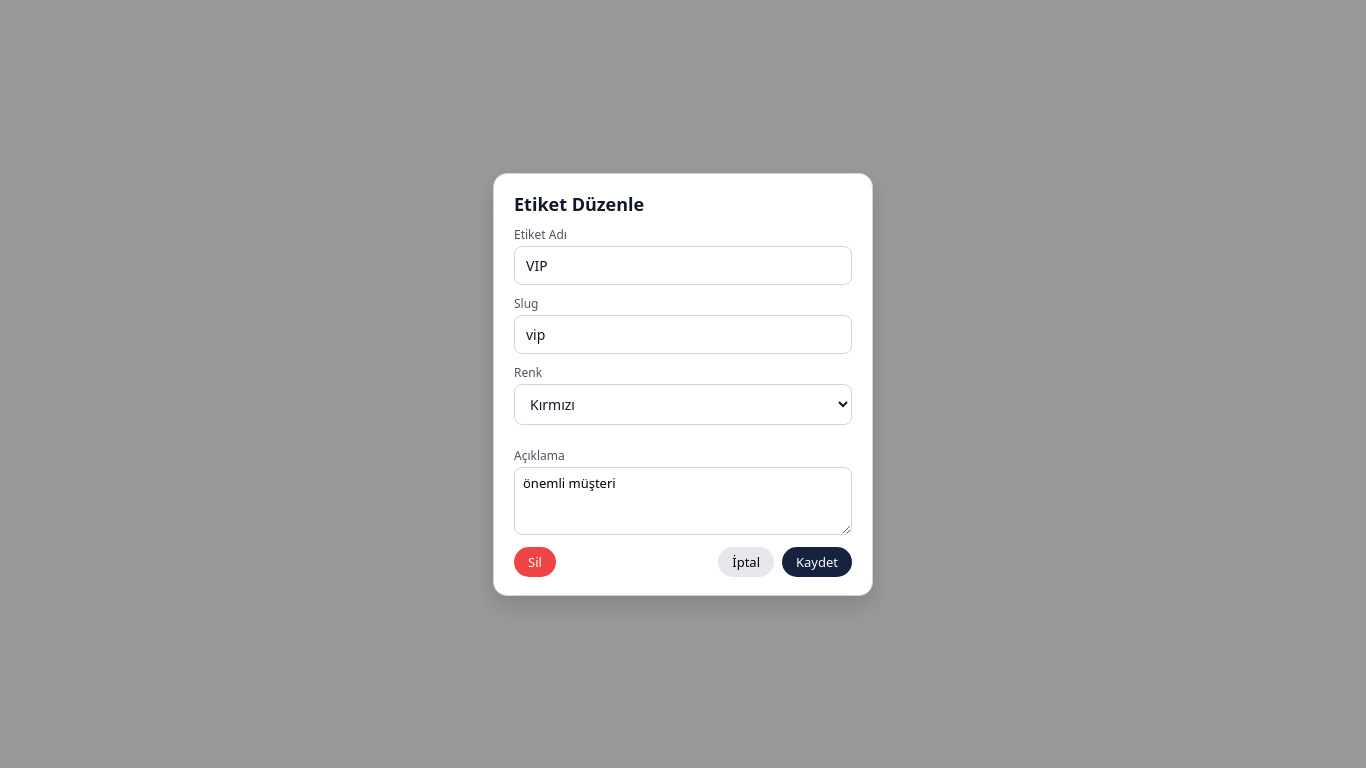
EditTagModal › delete flow › cancels the delete confirmation
What coordinates should you click on to do the following:
click the button "Sil"
I would click on:
 (535, 562)
Its box is x1=514 y1=546 x2=556 y2=576.
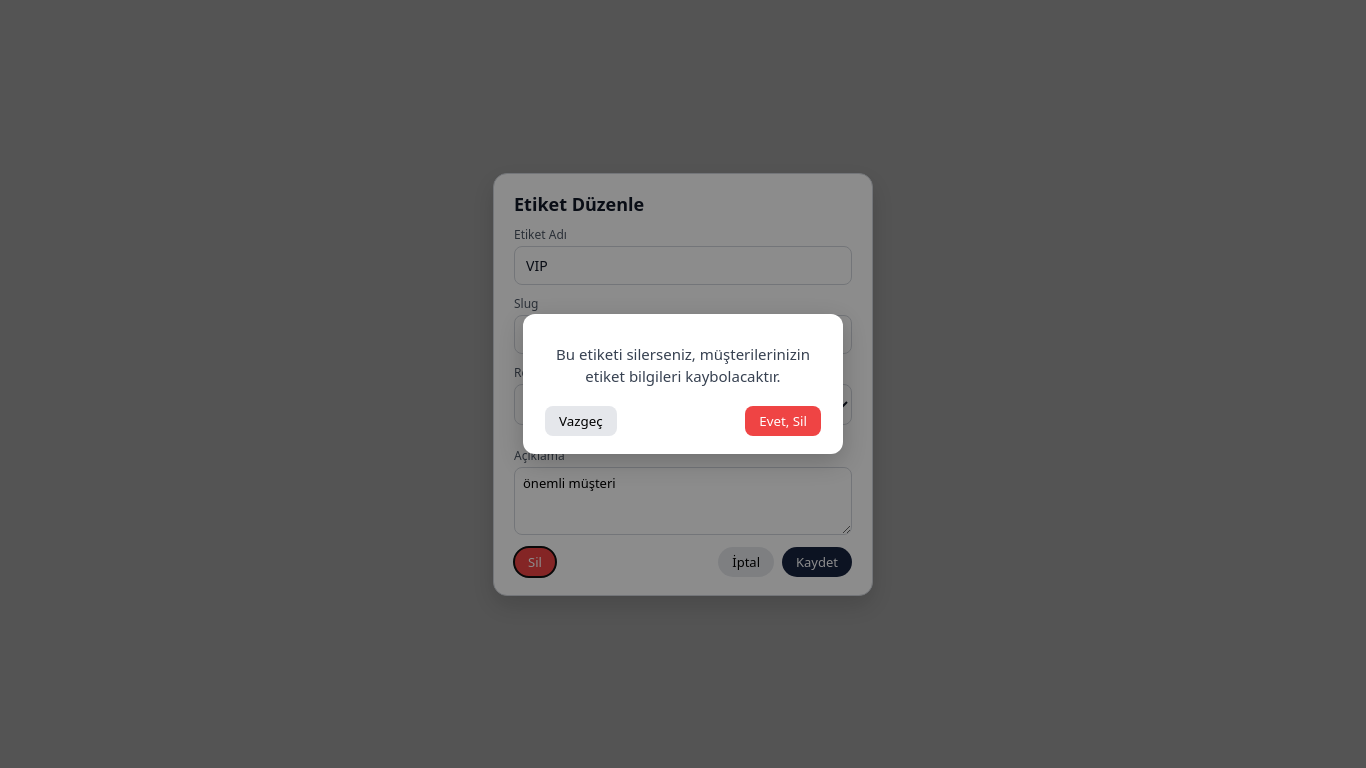
What coordinates should you click on to do the following:
click the button "Vazgeç"
I would click on:
 (581, 421)
Its box is x1=545 y1=406 x2=617 y2=436.
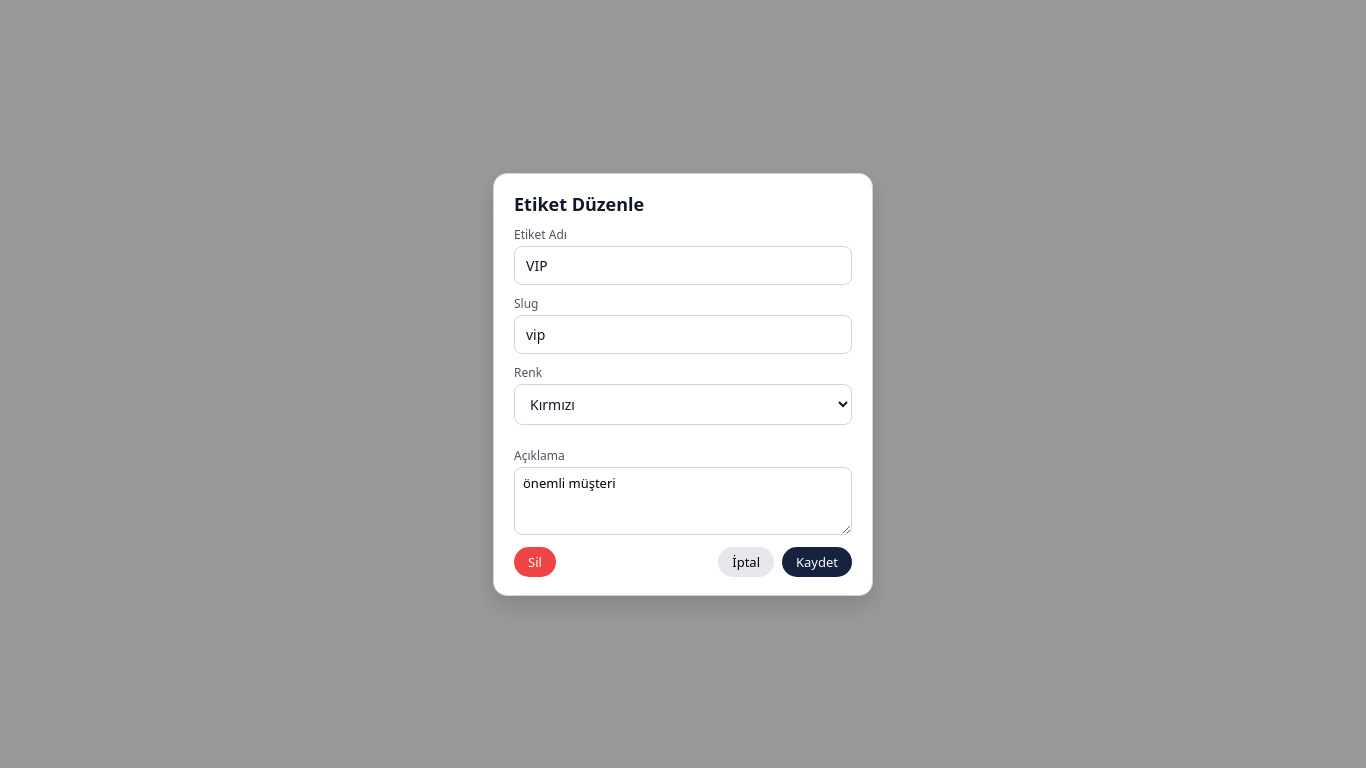
Result: the text "kaybolacaktır" is gone
